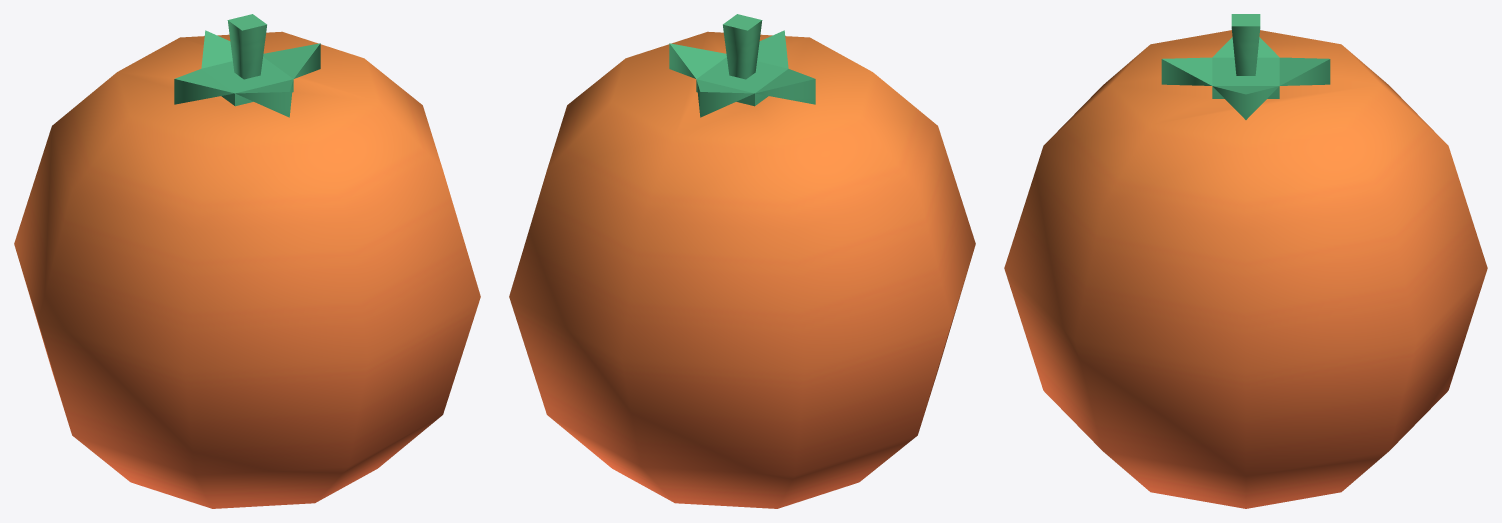
File: orange.obj
3 renders of one model, left to right at view 1: azimuth 30°, elevation 25°; view 2: azimuth 150°, elevation 25°; view 3: azimuth 270°, elevation 25°, orthographic.
Visible parts, largest first — view 1: orange; view 2: orange; view 3: orange.
Boxes of the visible parts, x1,y1,x2,y2 form: orange: [14, 14, 480, 508]; orange: [509, 14, 975, 508]; orange: [1004, 14, 1487, 508].
Bounding box in the file's own units: 0.1697 × 0.1672 × 0.1697.
Materials: 1 (1 with a texture image).
